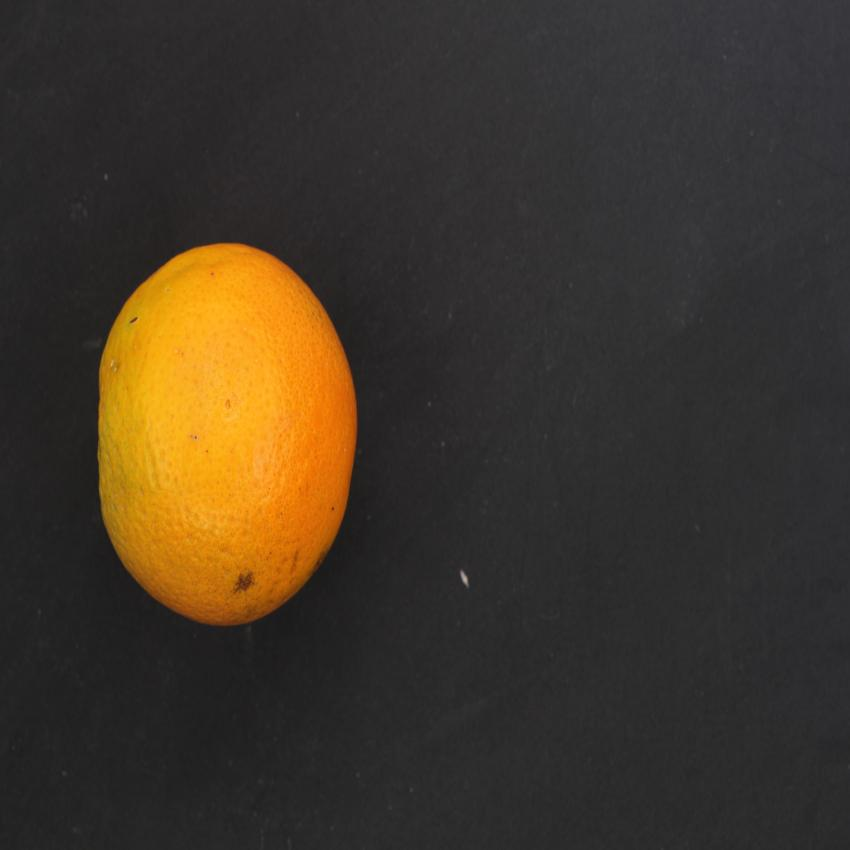Buen estado: (89, 230, 373, 648)
